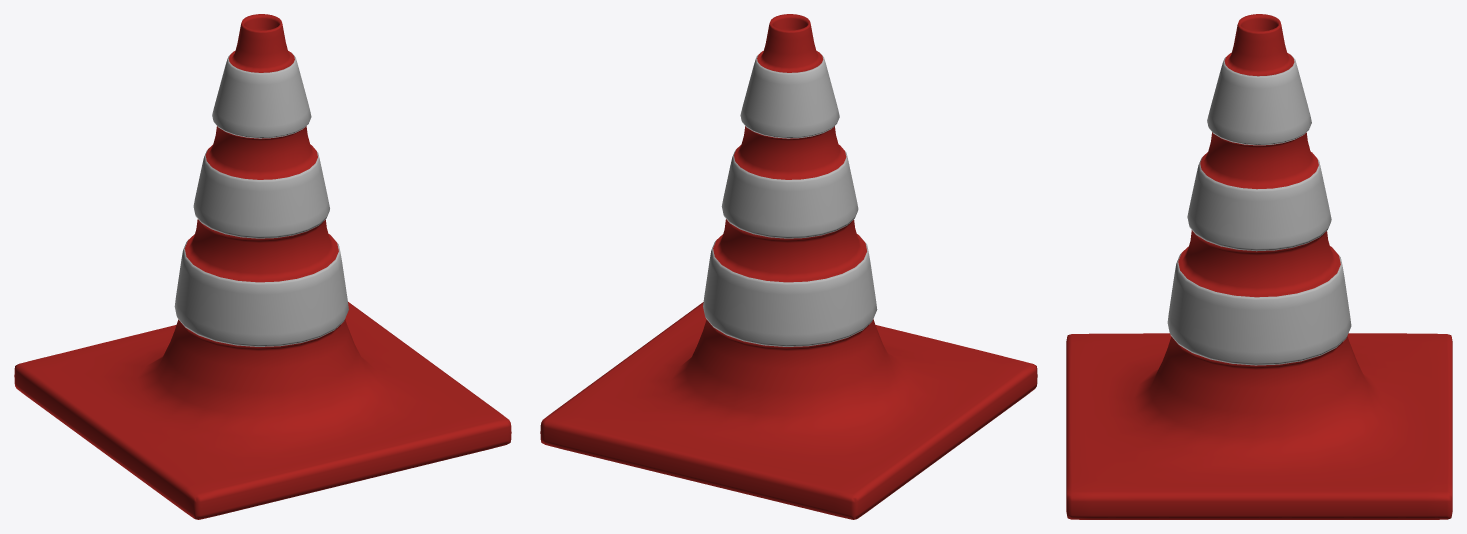
File: ConoRojo.fbx
3 renders of one model, left to right at view 1: azimuth 30°, elevation 25°; view 2: azimuth 150°, elevation 25°; view 3: azimuth 270°, elevation 25°, orthographic. The views are drawn at different scales.
Parts seen in each view (by area): view 1: Cube; view 2: Cube; view 3: Cube.
Part boxes in pixels (box(x1,y1,x2,y2)): Cube: box(14, 14, 511, 519); Cube: box(540, 14, 1037, 519); Cube: box(1066, 14, 1452, 519).
Size of the model in its own units: 198 by 236 by 198.
